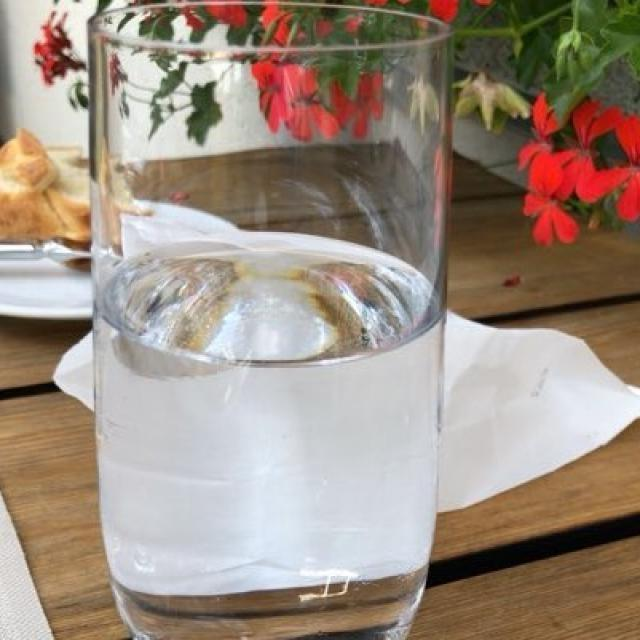water: (97, 237, 437, 610)
